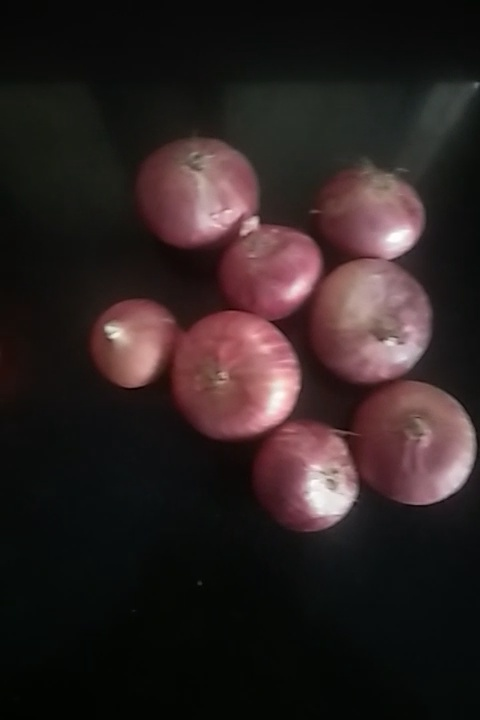onion: (130, 124, 262, 250), (177, 312, 301, 435), (309, 263, 434, 383), (354, 387, 473, 507), (311, 159, 428, 259), (259, 422, 359, 535), (225, 225, 323, 314), (88, 300, 176, 390)
